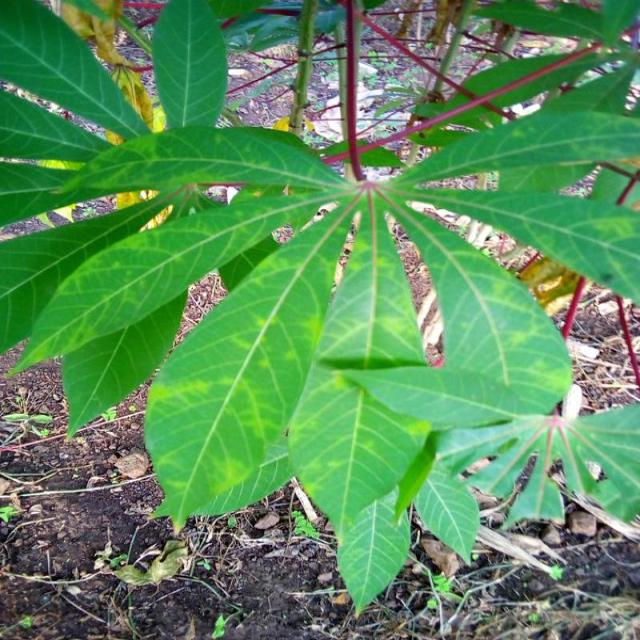cassava leaf: (0, 0, 638, 615), (142, 195, 354, 536)
